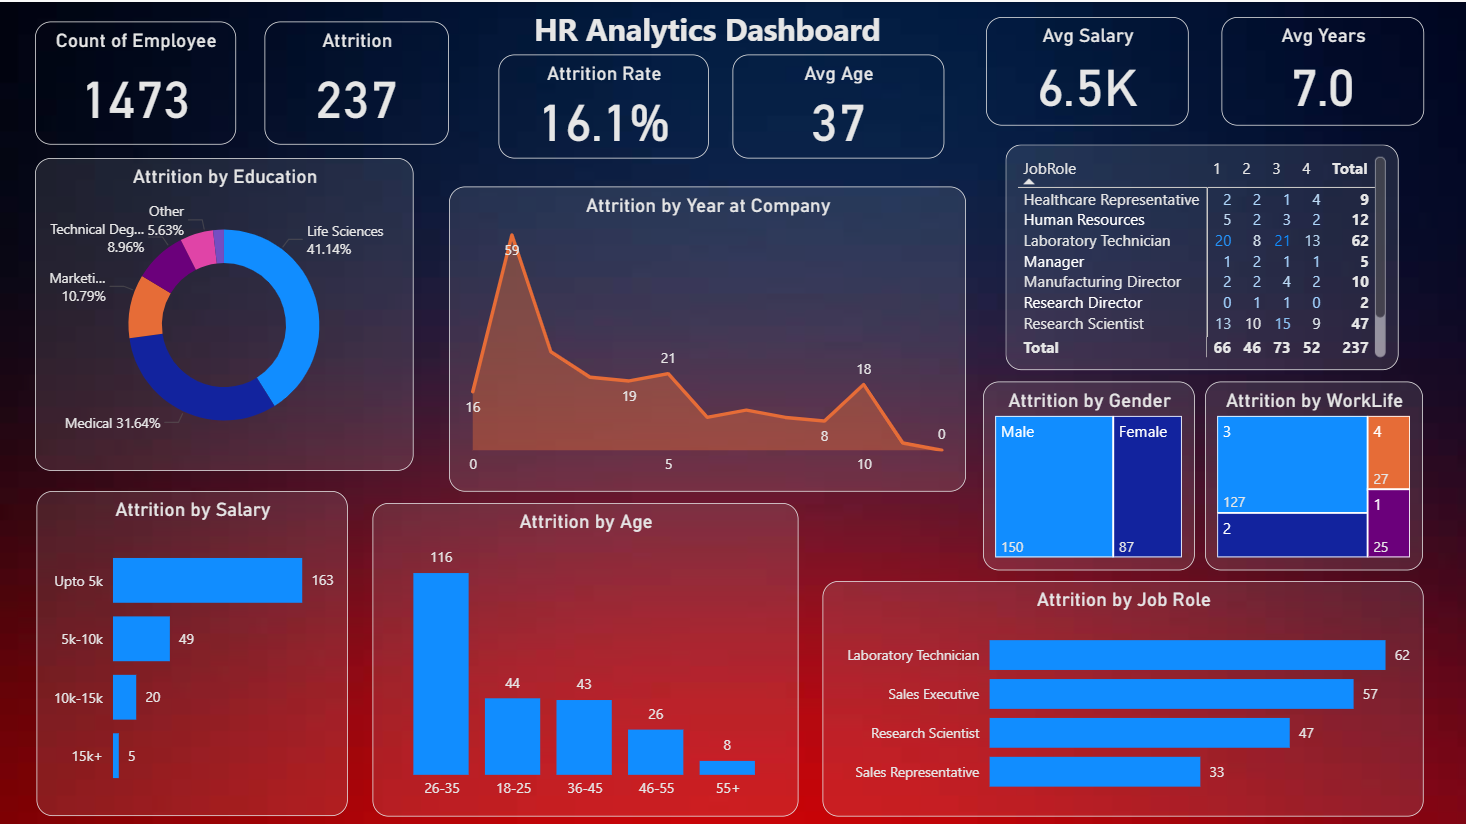

What the dashboard file says about the page in this screenshot:
{"tool":"powerbi","page":{"name":"Page 1","canvas":[1280,720],"ordinal":0},"visuals":[{"type":"card","title":"Count of Employee","fields":{"Values":["Sum(HR_Analytics.EmployeeCount)"]},"box":[32.1,16.1,175.3,91],"z":0},{"type":"card","title":"Attrition","fields":{"Values":["Sum(HR_Analytics.AttritionCount)"]},"box":[231.5,16.1,160.6,91],"z":1000},{"type":"card","title":"Attrition Rate","fields":{"Values":["HR_Analytics.AttritionRate"]},"box":[434.8,45.5,183.3,91],"z":2000},{"type":"card","title":"Avg Age","fields":{"Values":["Avg(HR_Analytics.Age)"]},"box":[639.6,45.5,184.6,91],"z":3000},{"type":"card","title":"Avg Salary","fields":{"Values":["Avg(HR_Analytics.MonthlyIncome)"]},"box":[860.5,12.6,176.8,94.7],"z":4000},{"type":"card","title":"Avg Years","fields":{"Values":["Avg(HR_Analytics.YearsAtCompany)"]},"box":[1065.8,12.6,176.8,94.7],"z":5000},{"type":"donutChart","title":"Attrition by Education","fields":{"Category":["HR_Analytics.EducationField"],"Y":["CountNonNull(HR_Analytics.EducationField)"]},"box":[32.1,124.4,319.8,285],"z":6000},{"type":"columnChart","title":"Attrition by Age","fields":{"Category":["HR_Analytics.AgeGroup"],"Y":["Sum(HR_Analytics.AttritionCount)"]},"box":[325.6,436.7,371.3,273.3],"z":7000},{"type":"pivotTable","fields":{"Rows":["HR_Analytics.JobRole"],"Columns":["HR_Analytics.JobSatisfaction"],"Values":["Sum(HR_Analytics.AttritionCount)"]},"box":[877.7,124.4,342.5,196.7],"z":8000},{"type":"clusteredBarChart","title":"Attrition by Salary","fields":{"Category":["HR_Analytics.SalarySlab"],"Y":["Sum(HR_Analytics.AttritionCount)"]},"box":[32.1,426.8,271.6,283.7],"z":9000},{"type":"clusteredBarChart","title":"Attrition by Job Role","fields":{"Category":["HR_Analytics.JobRole"],"Y":["Sum(HR_Analytics.AttritionCount)"]},"box":[717.8,504.7,524.3,205.3],"z":10000},{"type":"areaChart","title":"Attrition by Year at Company","fields":{"Category":["HR_Analytics.YearsAtCompany"],"Y":["Sum(HR_Analytics.AttritionCount)"]},"box":[392,160.6,450.9,266.3],"z":11000},{"type":"treemap","title":"Attrition by Gender","fields":{"Group":["HR_Analytics.Gender"],"Values":["Sum(HR_Analytics.AttritionCount)"]},"box":[857.7,330.5,184.6,164.6],"z":12000},{"type":"treemap","title":"Attrition by WorkLife","fields":{"Group":["HR_Analytics.WorkLifeBalance","HR_Analytics.Gender"],"Values":["Sum(HR_Analytics.AttritionCount)"]},"box":[1051.7,330.5,190,164.6],"z":13000},{"type":"textbox","box":[410.8,0,413.4,54.9],"z":14000}]}

Visuals, with their boxes in screenshot pixels (x1, y1, x2, y2), scaled from the page's 1280x720 canvas onto the 1466x824 screenshot:
"Count of Employee" card: Rect(37, 18, 238, 123)
"Attrition" card: Rect(265, 18, 449, 123)
"Attrition Rate" card: Rect(498, 52, 708, 156)
"Avg Age" card: Rect(733, 52, 944, 156)
"Avg Salary" card: Rect(986, 14, 1188, 123)
"Avg Years" card: Rect(1221, 14, 1423, 123)
"Attrition by Education" donutChart: Rect(37, 142, 403, 469)
"Attrition by Age" columnChart: Rect(373, 500, 798, 813)
pivotTable - HR_Analytics.JobRole x HR_Analytics.JobSatisfaction: Rect(1005, 142, 1398, 367)
"Attrition by Salary" clusteredBarChart: Rect(37, 488, 348, 813)
"Attrition by Job Role" clusteredBarChart: Rect(822, 578, 1423, 813)
"Attrition by Year at Company" areaChart: Rect(449, 184, 965, 489)
"Attrition by Gender" treemap: Rect(982, 378, 1194, 567)
"Attrition by WorkLife" treemap: Rect(1205, 378, 1422, 567)
textbox: Rect(470, 0, 944, 63)
